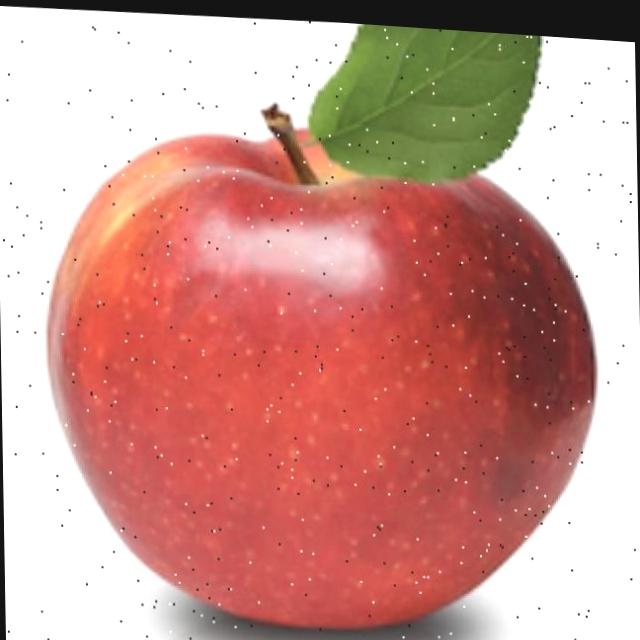Apple: (40, 81, 601, 640)
